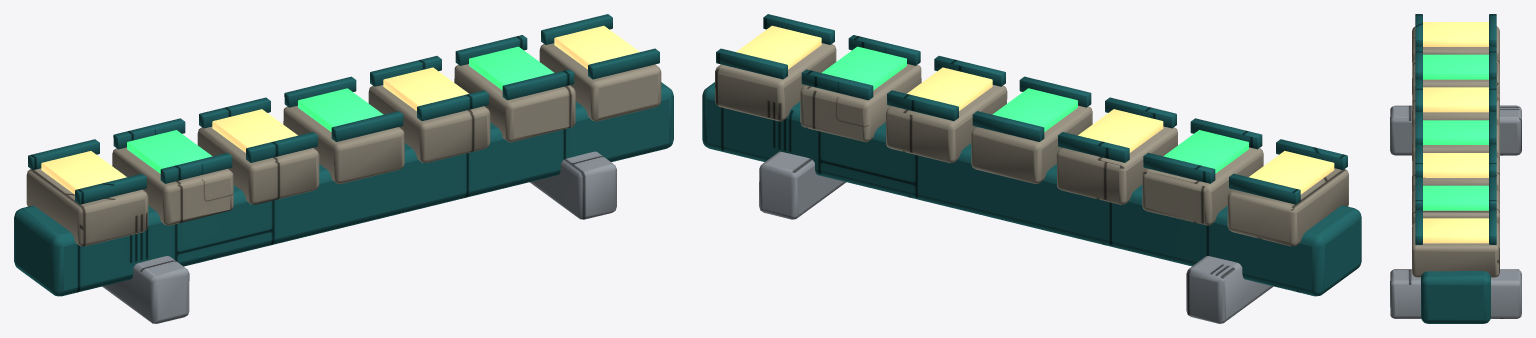
Rendered from ops_docking_light_bar_lod1.glb.
3 views of the same model, side by side, from view 1: azimuth 30°, elevation 25°; view 2: azimuth 150°, elevation 25°; view 3: azimuth 270°, elevation 25° (orthographic). The views are drawn at different scales.
Parts seen in each view (by area): view 1: LOD1_Armor, LOD1_Hull, LOD1_Lights_Warm, LOD1_BrushedMetal, LOD1_HOOK_NAV_STARBOARD; view 2: LOD1_Armor, LOD1_Hull, LOD1_Lights_Warm, LOD1_BrushedMetal, LOD1_HOOK_NAV_STARBOARD; view 3: LOD1_Hull, LOD1_Armor, LOD1_Lights_Warm, LOD1_BrushedMetal, LOD1_HOOK_NAV_STARBOARD.
Boxes of the visible parts, box(x1,y1,x2,y2) form: LOD1_Armor: box(14, 14, 673, 296); LOD1_Hull: box(26, 43, 661, 246); LOD1_Lights_Warm: box(41, 25, 639, 194); LOD1_BrushedMetal: box(102, 151, 616, 323); LOD1_HOOK_NAV_STARBOARD: box(127, 46, 554, 173); LOD1_Armor: box(702, 14, 1361, 296); LOD1_Hull: box(715, 43, 1348, 246); LOD1_Lights_Warm: box(736, 25, 1334, 194); LOD1_BrushedMetal: box(759, 151, 1273, 323); LOD1_HOOK_NAV_STARBOARD: box(821, 46, 1248, 173); LOD1_Hull: box(1412, 26, 1499, 277); LOD1_Armor: box(1415, 14, 1496, 323); LOD1_Lights_Warm: box(1423, 22, 1488, 243); LOD1_BrushedMetal: box(1390, 105, 1521, 318); LOD1_HOOK_NAV_STARBOARD: box(1423, 54, 1488, 210).
Size of the model in its own units: 3.2 by 0.6694 by 0.75.
5 materials, 3 textured.
